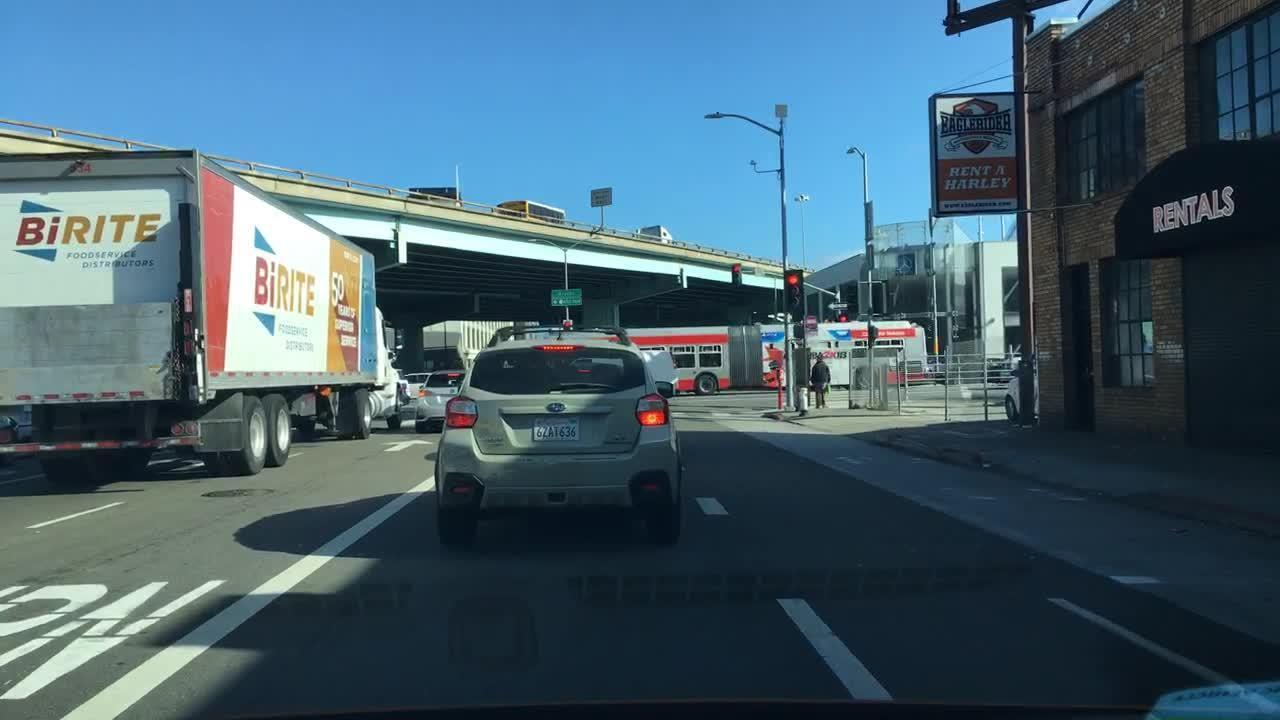subaru: (544, 399, 570, 419)
